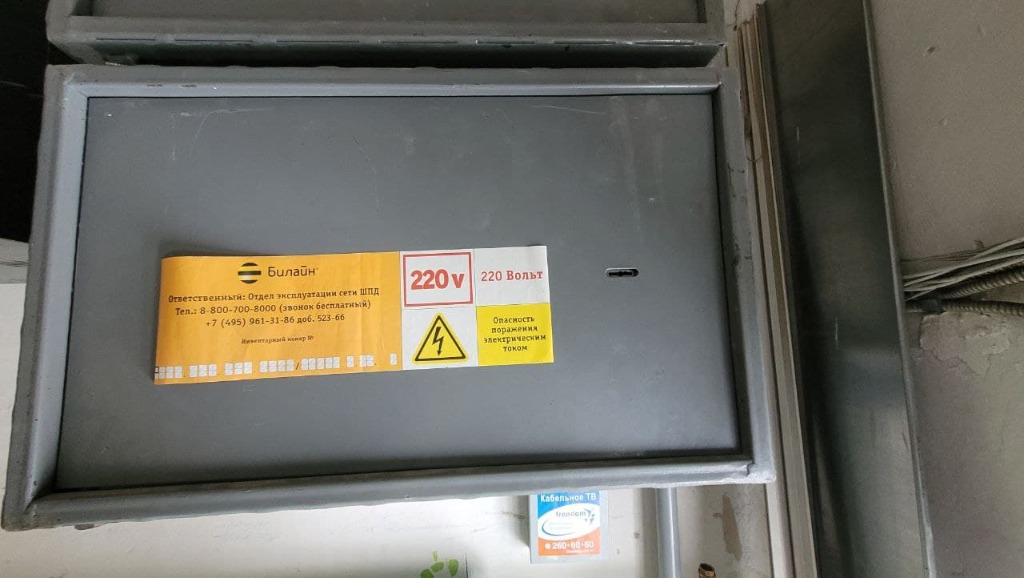e2-6u: (4, 61, 781, 528)
